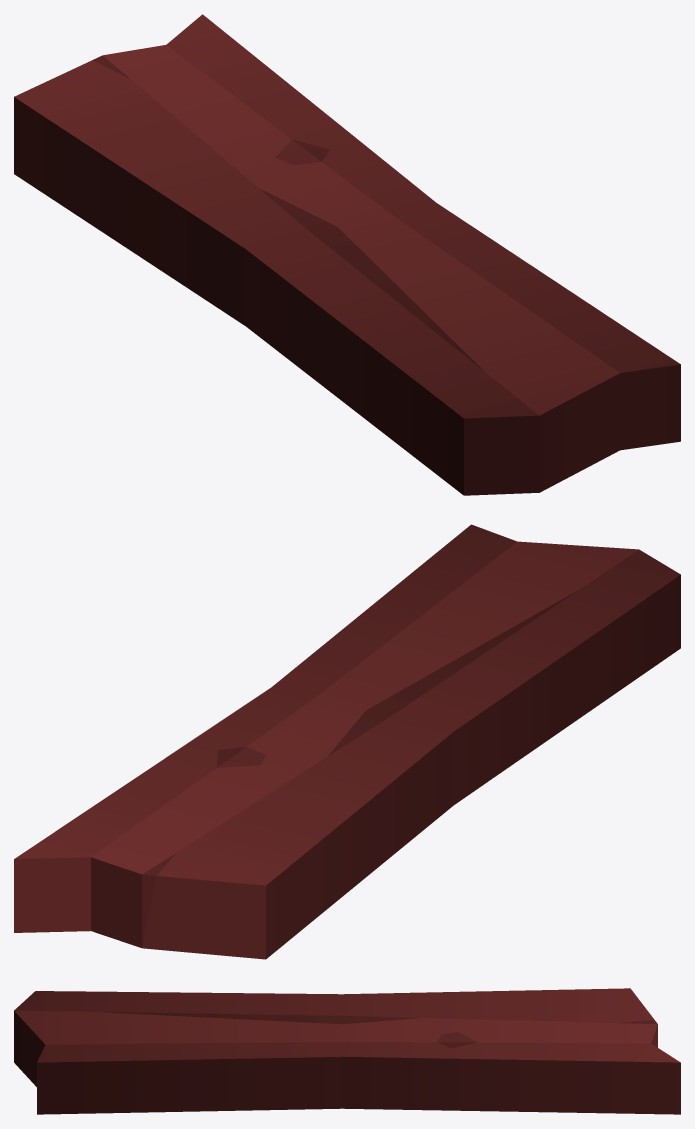
The model's file is wood_1.glb.
3 renders of one model, top to bottom at view 1: azimuth 30°, elevation 25°; view 2: azimuth 150°, elevation 25°; view 3: azimuth 270°, elevation 25°, orthographic. The views are drawn at different scales.
Parts seen in each view (by area): view 1: wood_1; view 2: wood_1; view 3: wood_1.
Boxes of the visible parts, x1=… form: wood_1: x1=14, y1=14, x2=680, y2=495; wood_1: x1=14, y1=524, x2=680, y2=959; wood_1: x1=14, y1=988, x2=680, y2=1114.
Size of the model in its own units: 0.549 by 0.1792 by 2.08.
Materials: 1 (1 with a texture image).
